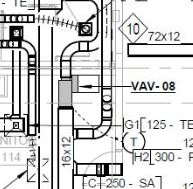VAV: (56, 74, 81, 112)
